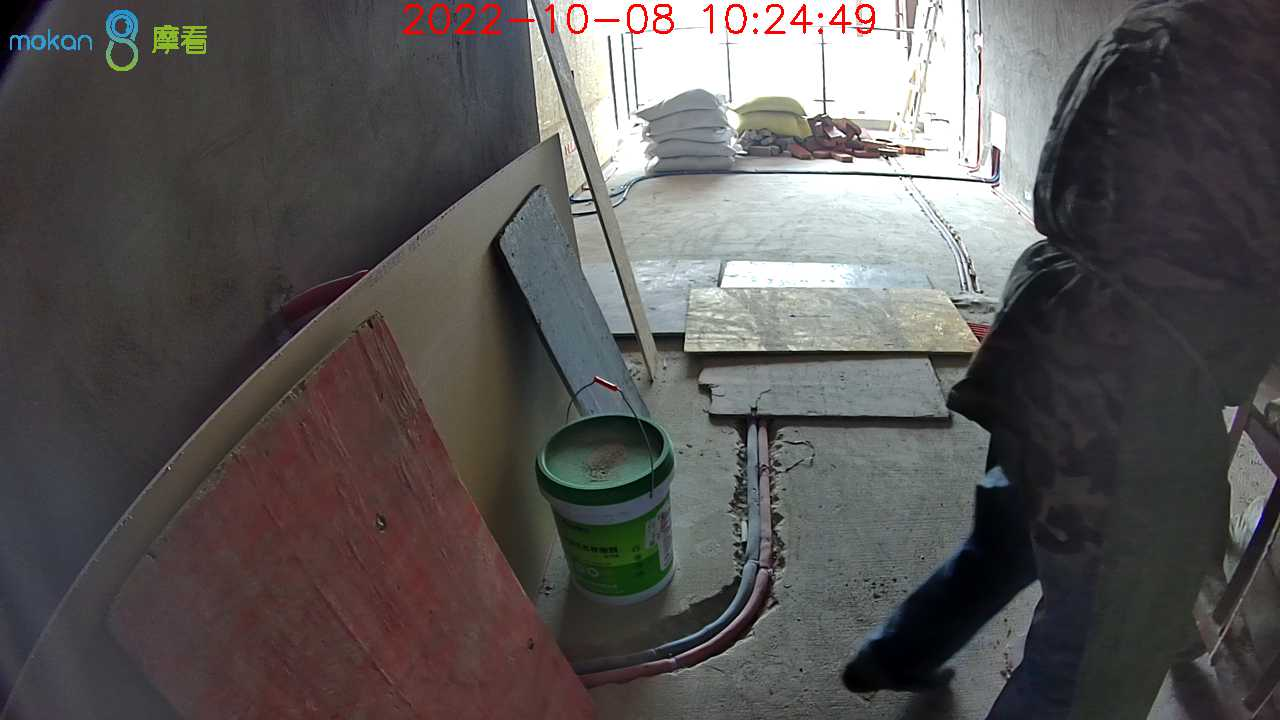people: (841, 1, 1280, 720)
window: (609, 4, 908, 104)
